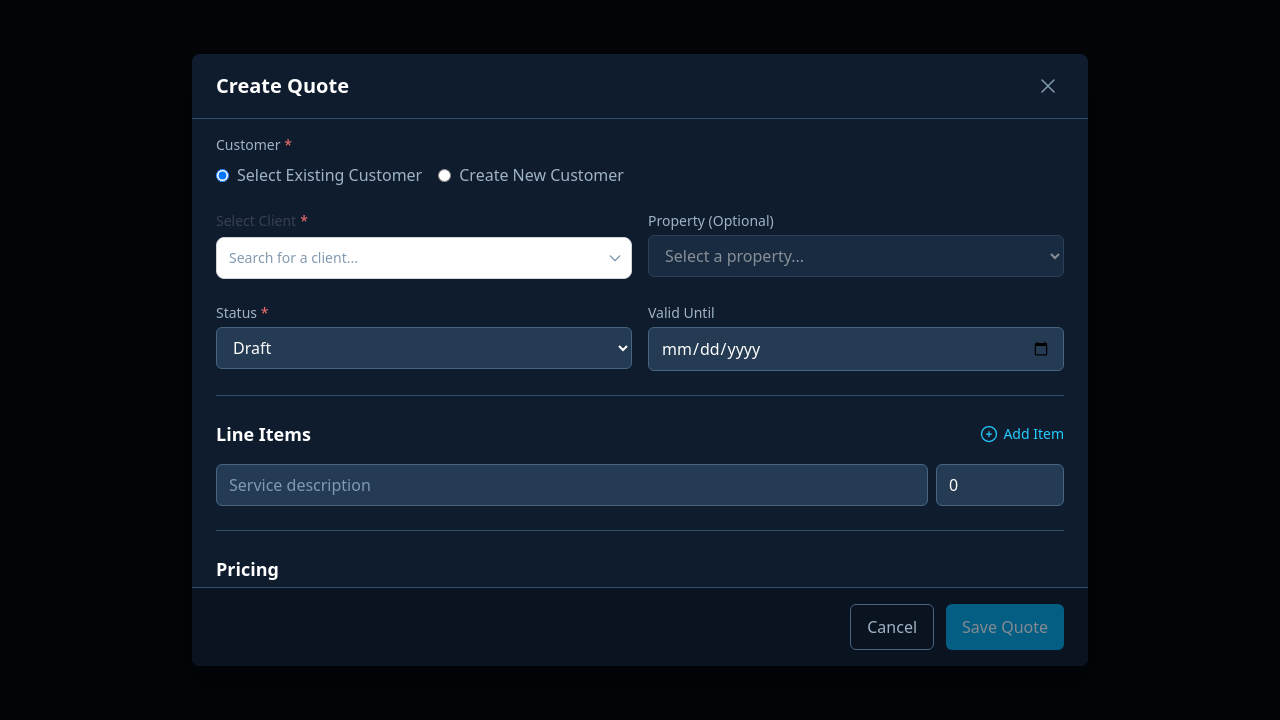
it: QuoteEditor › should toggle between existing and new customer modes
Expected: the text "Select Existing Customer" is shown, [237, 163, 422, 187]
Expected: the text "Create New Customer" is shown, [459, 163, 624, 187]
Click the radio button labelled "Create New Customer": [445, 175] box [438, 168, 451, 182]
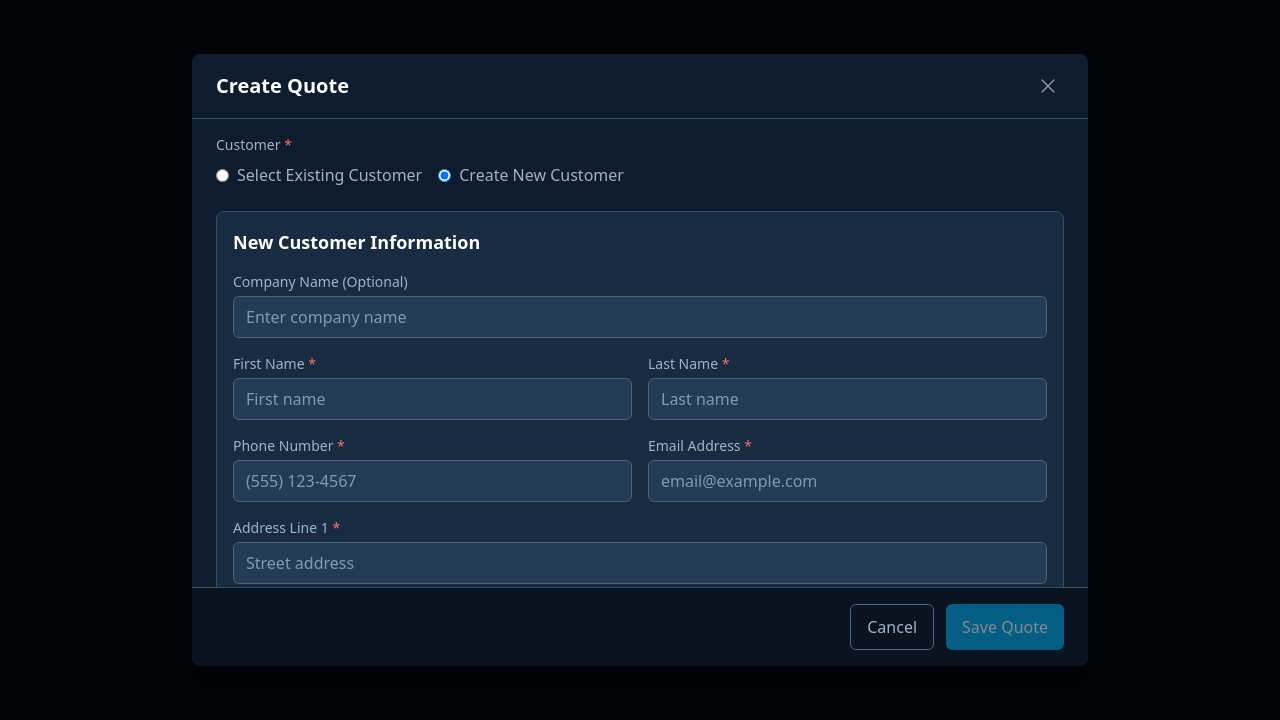
Expected: the radio button labelled "Create New Customer" is checked, [438, 168, 451, 182]
Expected: the radio button labelled "Select Existing Customer" is not checked, [216, 168, 229, 182]
Expected: the field labelled "First Name *" is shown, [233, 378, 632, 420]
